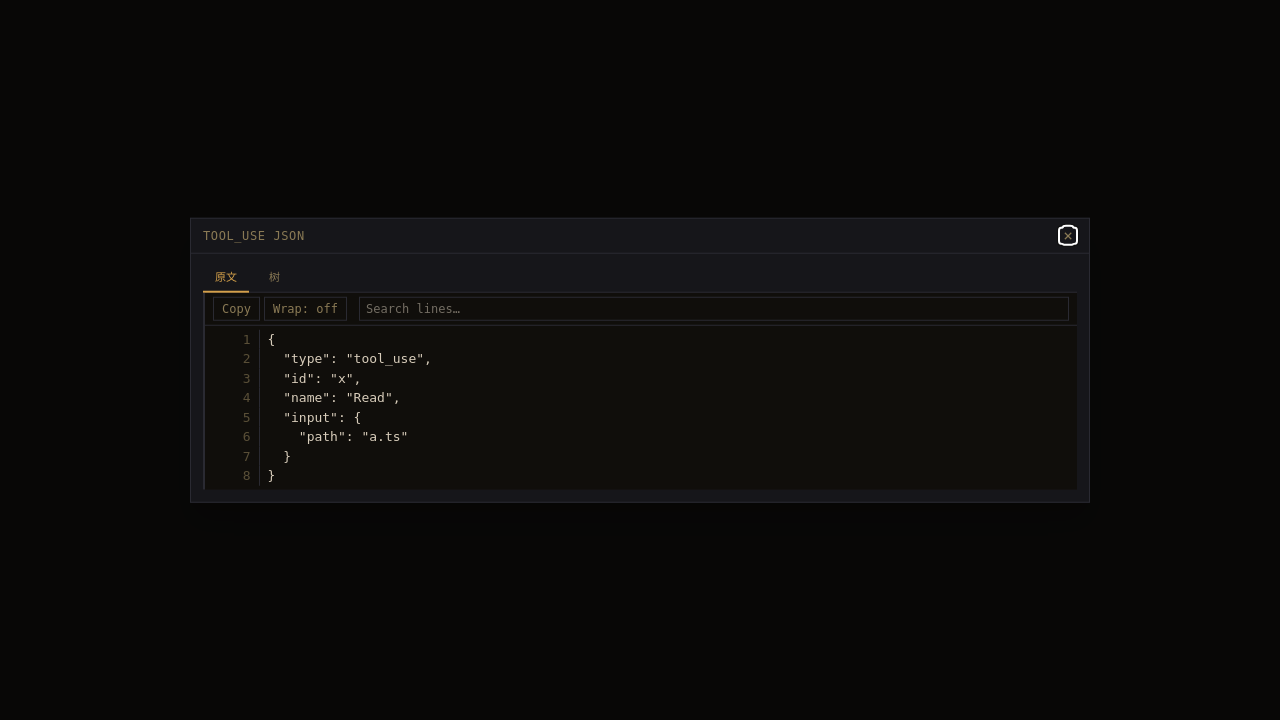
Scenario: BlockJsonModal › switches to a collapsible tree when the Tree tab is selected
Step 1. Click the tab "树" → x=274, y=279, box x1=257 y1=266 x2=292 y2=292
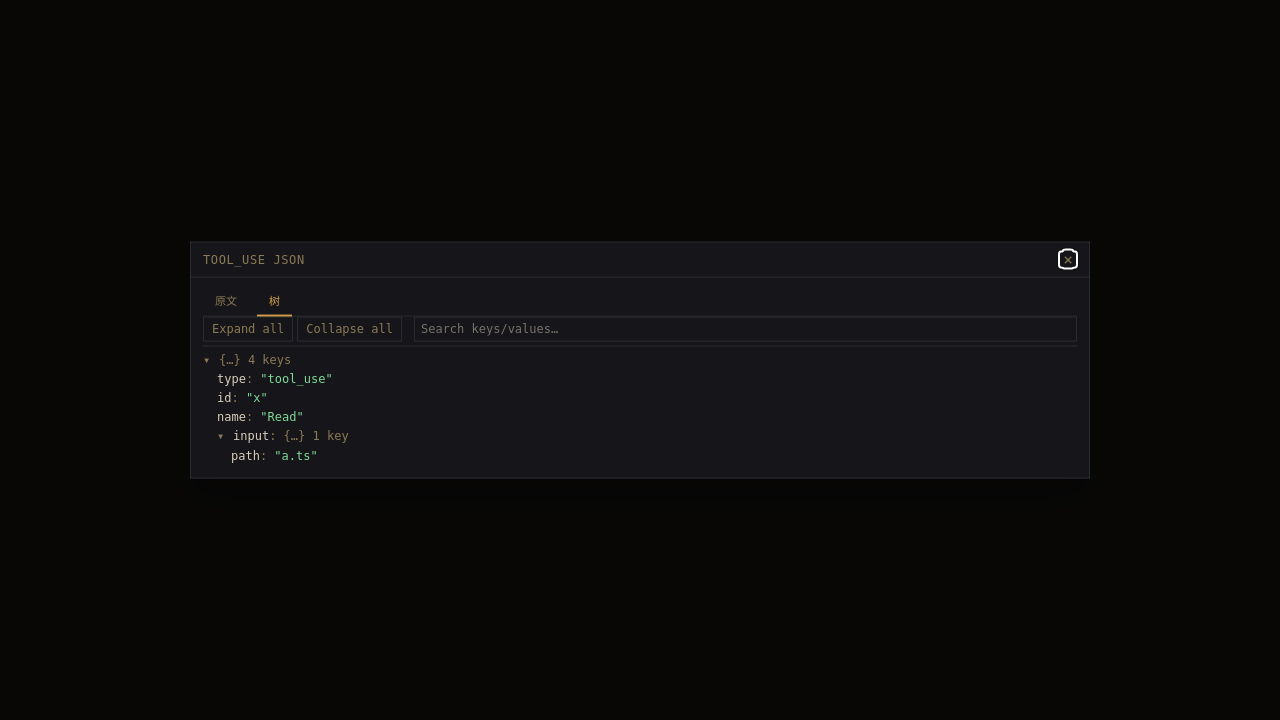
Expected: the text "{…} 4 keys" is shown, x1=219 y1=352 x2=291 y2=366
